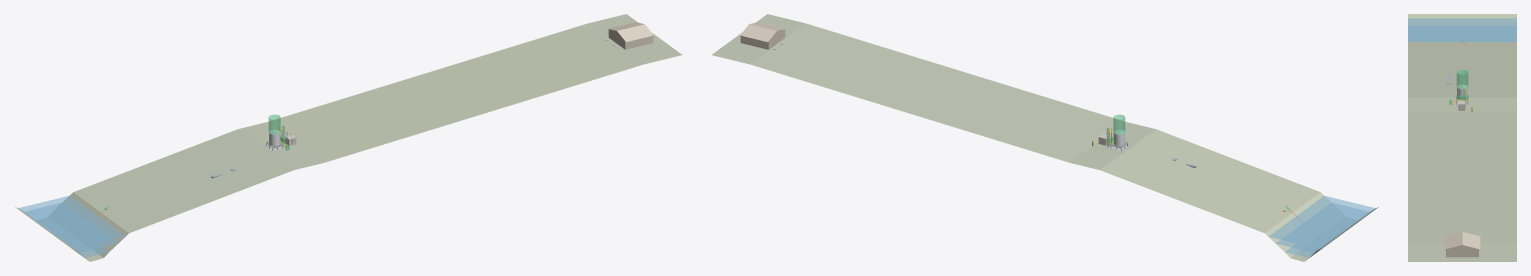
Rendered from captacao_caixa_casa.glb.
3 renders of one model, left to right at view 1: azimuth 30°, elevation 25°; view 2: azimuth 150°, elevation 25°; view 3: azimuth 270°, elevation 25°, orthographic. The views are drawn at different scales.
Visible parts, largest first — view 1: TER-01, RIO-MAX, RIO-NOR, CASA; view 2: TER-01, RIO-MAX, RIO-NOR, CASA; view 3: TER-01, RIO-MAX, RIO-NOR, CASA, ZN-04, TQ-101.
Part boxes in pixels (x1,y1,x2,y2): TER-01: (15, 14, 681, 261); RIO-MAX: (18, 195, 124, 249); RIO-NOR: (25, 203, 117, 252); CASA: (608, 22, 653, 49); TER-01: (712, 14, 1378, 261); RIO-MAX: (1269, 195, 1375, 249); RIO-NOR: (1276, 203, 1368, 252); CASA: (740, 22, 785, 49); TER-01: (1408, 14, 1516, 261); RIO-MAX: (1408, 18, 1516, 41); RIO-NOR: (1408, 26, 1516, 41); CASA: (1444, 232, 1480, 257); ZN-04: (1456, 69, 1468, 89); TQ-101: (1457, 85, 1467, 99).
Bounding box in the file's own units: 252 × 29.5 × 40.
